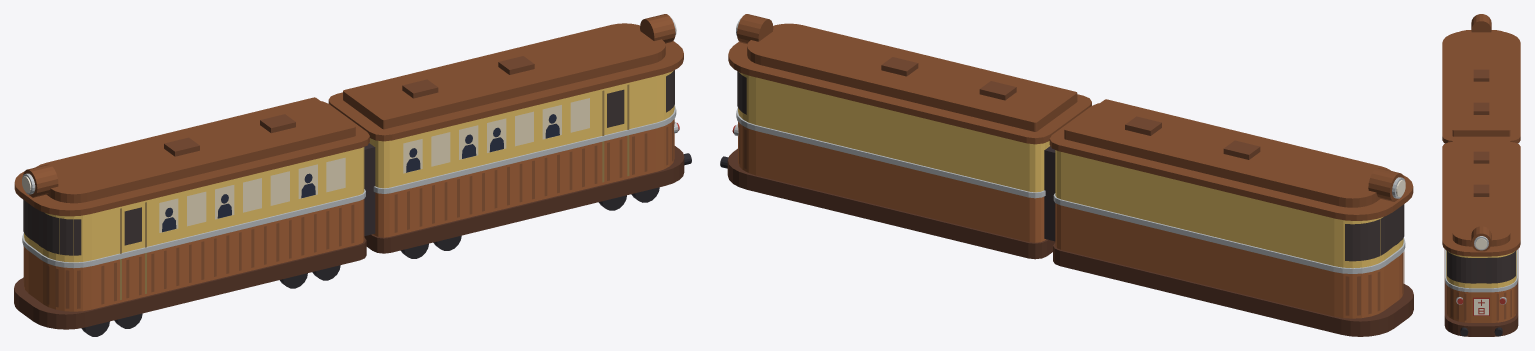
Rendered from train.glb.
3 views of the same model, side by side, from view 1: azimuth 30°, elevation 25°; view 2: azimuth 150°, elevation 25°; view 3: azimuth 270°, elevation 25° (orthographic). The views are drawn at different scales.
Visible parts, largest first — view 1: train; view 2: train; view 3: train.
Boxes of the visible parts, x1,y1,x2,y2 form: train: (14,14,691,336); train: (720,14,1413,336); train: (1442,14,1520,336).
Size of the model in its own units: 6.77 by 1.59 by 1.
